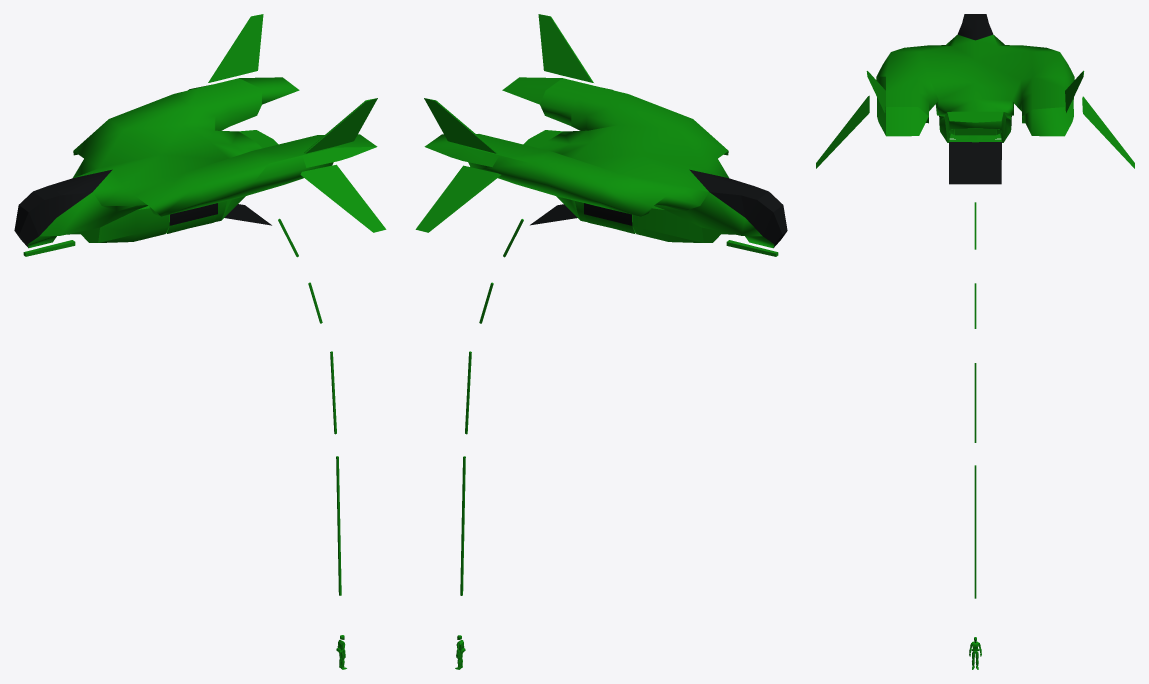
File: mp_dropship_spawn_start.obj
3 renders of one model, left to right at view 1: azimuth 30°, elevation 25°; view 2: azimuth 150°, elevation 25°; view 3: azimuth 270°, elevation 25°, orthographic. The views are drawn at different scales.
Bounding box in the file's own units: 737 × 1325 × 658.
